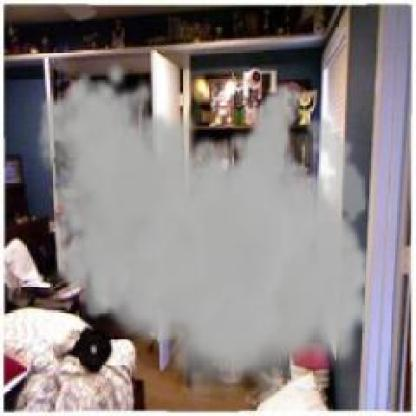Smoke: (36, 59, 378, 411)
